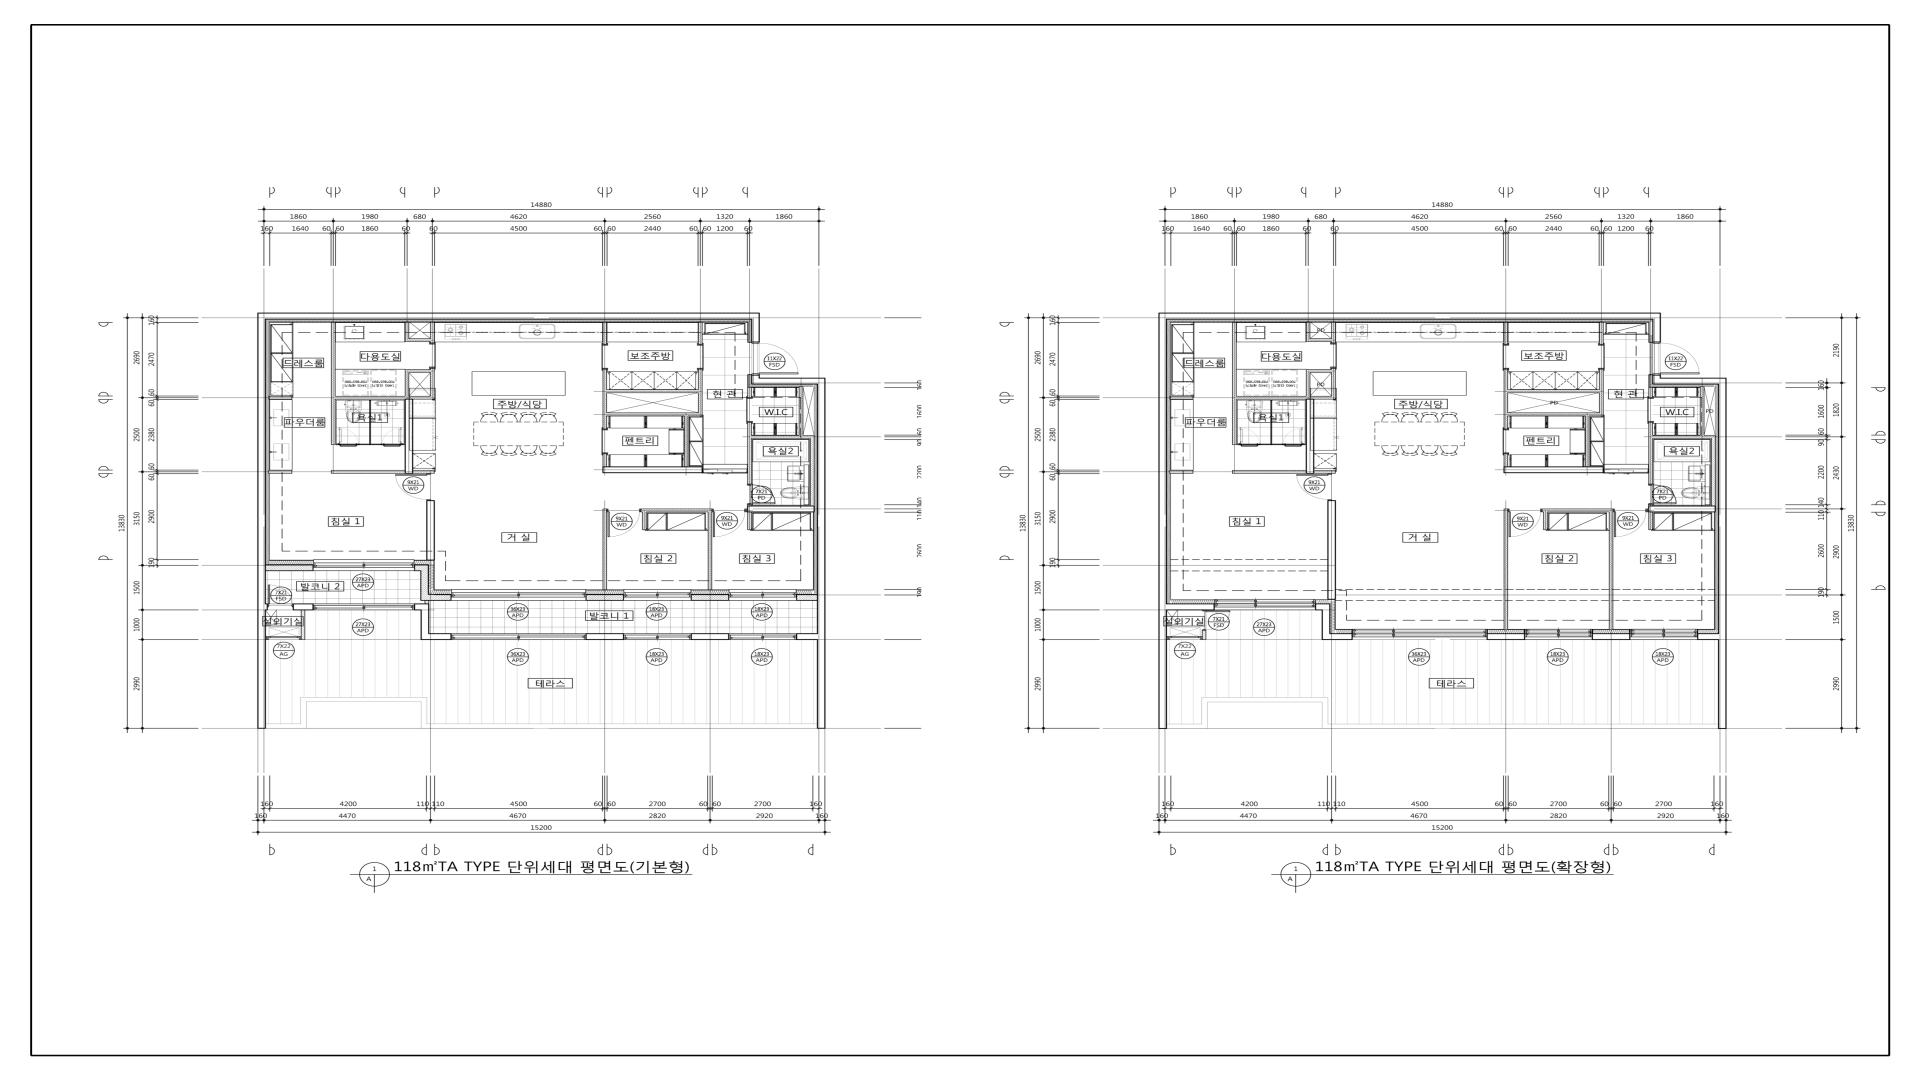door: (757, 343, 799, 375), (1659, 343, 1700, 375), (394, 475, 431, 500), (608, 510, 641, 538), (713, 510, 746, 538), (1613, 510, 1646, 538), (1296, 475, 1332, 500), (1509, 510, 1542, 537), (749, 484, 775, 505), (268, 584, 293, 605), (1651, 485, 1677, 505), (1205, 611, 1230, 630), (1240, 427, 1259, 447), (381, 427, 401, 447), (339, 427, 359, 447), (1283, 427, 1302, 447), (703, 468, 748, 473), (1604, 468, 1648, 473), (1598, 344, 1605, 369), (1502, 344, 1509, 369), (746, 397, 753, 422), (601, 344, 608, 369), (1647, 398, 1654, 423), (1502, 429, 1509, 454), (601, 430, 608, 454), (698, 345, 704, 369), (429, 344, 435, 368), (1331, 344, 1336, 368)
wall: (1158, 313, 1662, 640), (257, 313, 760, 640), (1652, 375, 1727, 640), (752, 375, 825, 640), (1315, 604, 1353, 641), (414, 604, 451, 640), (1327, 500, 1336, 600), (1305, 400, 1315, 473), (1503, 467, 1604, 473), (603, 467, 703, 473), (1232, 322, 1237, 444), (331, 322, 336, 444), (1609, 509, 1614, 629), (1503, 509, 1509, 629), (405, 400, 413, 473), (426, 500, 435, 560), (1648, 505, 1716, 513), (748, 505, 815, 513), (1507, 413, 1604, 417), (607, 413, 703, 417), (1507, 389, 1600, 393), (607, 389, 698, 393), (810, 438, 815, 505), (265, 564, 314, 571), (708, 509, 712, 589), (603, 509, 607, 589), (1232, 469, 1305, 473), (1237, 396, 1311, 400), (331, 469, 405, 473), (335, 396, 409, 400), (1712, 438, 1716, 505), (1700, 386, 1705, 435), (1486, 633, 1524, 640), (585, 595, 624, 601), (691, 595, 729, 601), (691, 633, 729, 640), (585, 633, 624, 640), (1652, 435, 1716, 439), (752, 435, 815, 439), (1648, 423, 1652, 485), (748, 422, 752, 484), (1593, 633, 1630, 640), (603, 369, 607, 430), (1503, 369, 1507, 429), (421, 571, 429, 600), (698, 369, 703, 413), (1585, 417, 1589, 467), (684, 417, 688, 467), (799, 386, 803, 435), (1542, 509, 1609, 512), (641, 509, 708, 512), (1600, 369, 1604, 413), (1331, 368, 1336, 397), (429, 595, 451, 601), (430, 368, 435, 396), (293, 604, 314, 611), (796, 595, 818, 601), (1305, 369, 1311, 396), (1503, 322, 1509, 344), (698, 323, 703, 345), (430, 322, 435, 344), (301, 611, 305, 640), (369, 400, 372, 443), (1270, 400, 1273, 443), (603, 323, 608, 344), (1331, 322, 1336, 343), (405, 369, 409, 396), (409, 396, 435, 400), (268, 396, 293, 400), (1311, 396, 1336, 400), (1543, 512, 1548, 530), (414, 564, 429, 571), (1170, 469, 1193, 473), (268, 469, 291, 473), (1170, 396, 1193, 400), (413, 469, 435, 473), (1600, 323, 1604, 344), (1315, 469, 1336, 473), (409, 369, 430, 373), (1311, 369, 1332, 373), (642, 512, 646, 530), (1503, 454, 1509, 467), (1648, 513, 1652, 530), (748, 513, 752, 530), (405, 322, 409, 339), (1305, 322, 1309, 339), (405, 339, 430, 342), (1305, 339, 1331, 342), (1259, 443, 1282, 446), (359, 443, 381, 446), (603, 454, 607, 467), (1201, 630, 1207, 640), (1648, 388, 1652, 398), (748, 388, 752, 397), (425, 600, 430, 604)
window: (451, 589, 585, 601), (1352, 629, 1486, 640), (314, 559, 414, 571), (1215, 599, 1315, 611), (451, 633, 585, 640), (624, 589, 691, 601), (729, 589, 796, 601), (1524, 629, 1593, 640), (1630, 629, 1697, 640), (314, 604, 414, 611), (624, 633, 691, 640), (729, 633, 796, 640), (266, 636, 301, 640), (1167, 637, 1201, 640)
